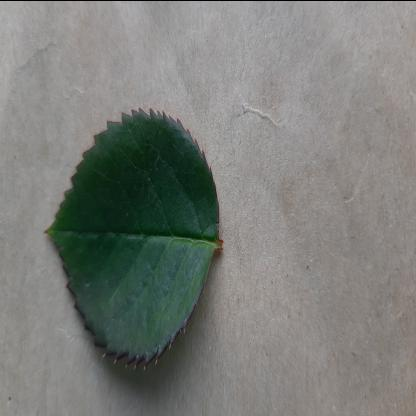normal: (47, 105, 223, 375)
